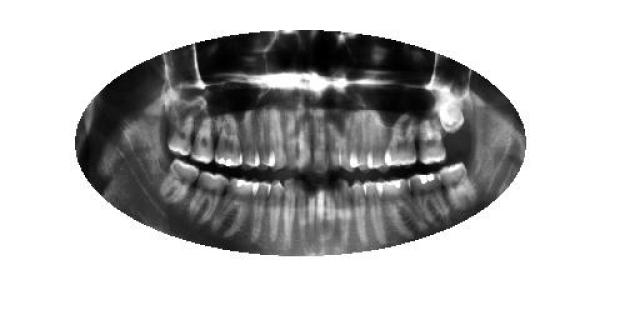Fillings: (379, 176, 426, 238), (409, 172, 450, 222), (212, 114, 244, 168)
